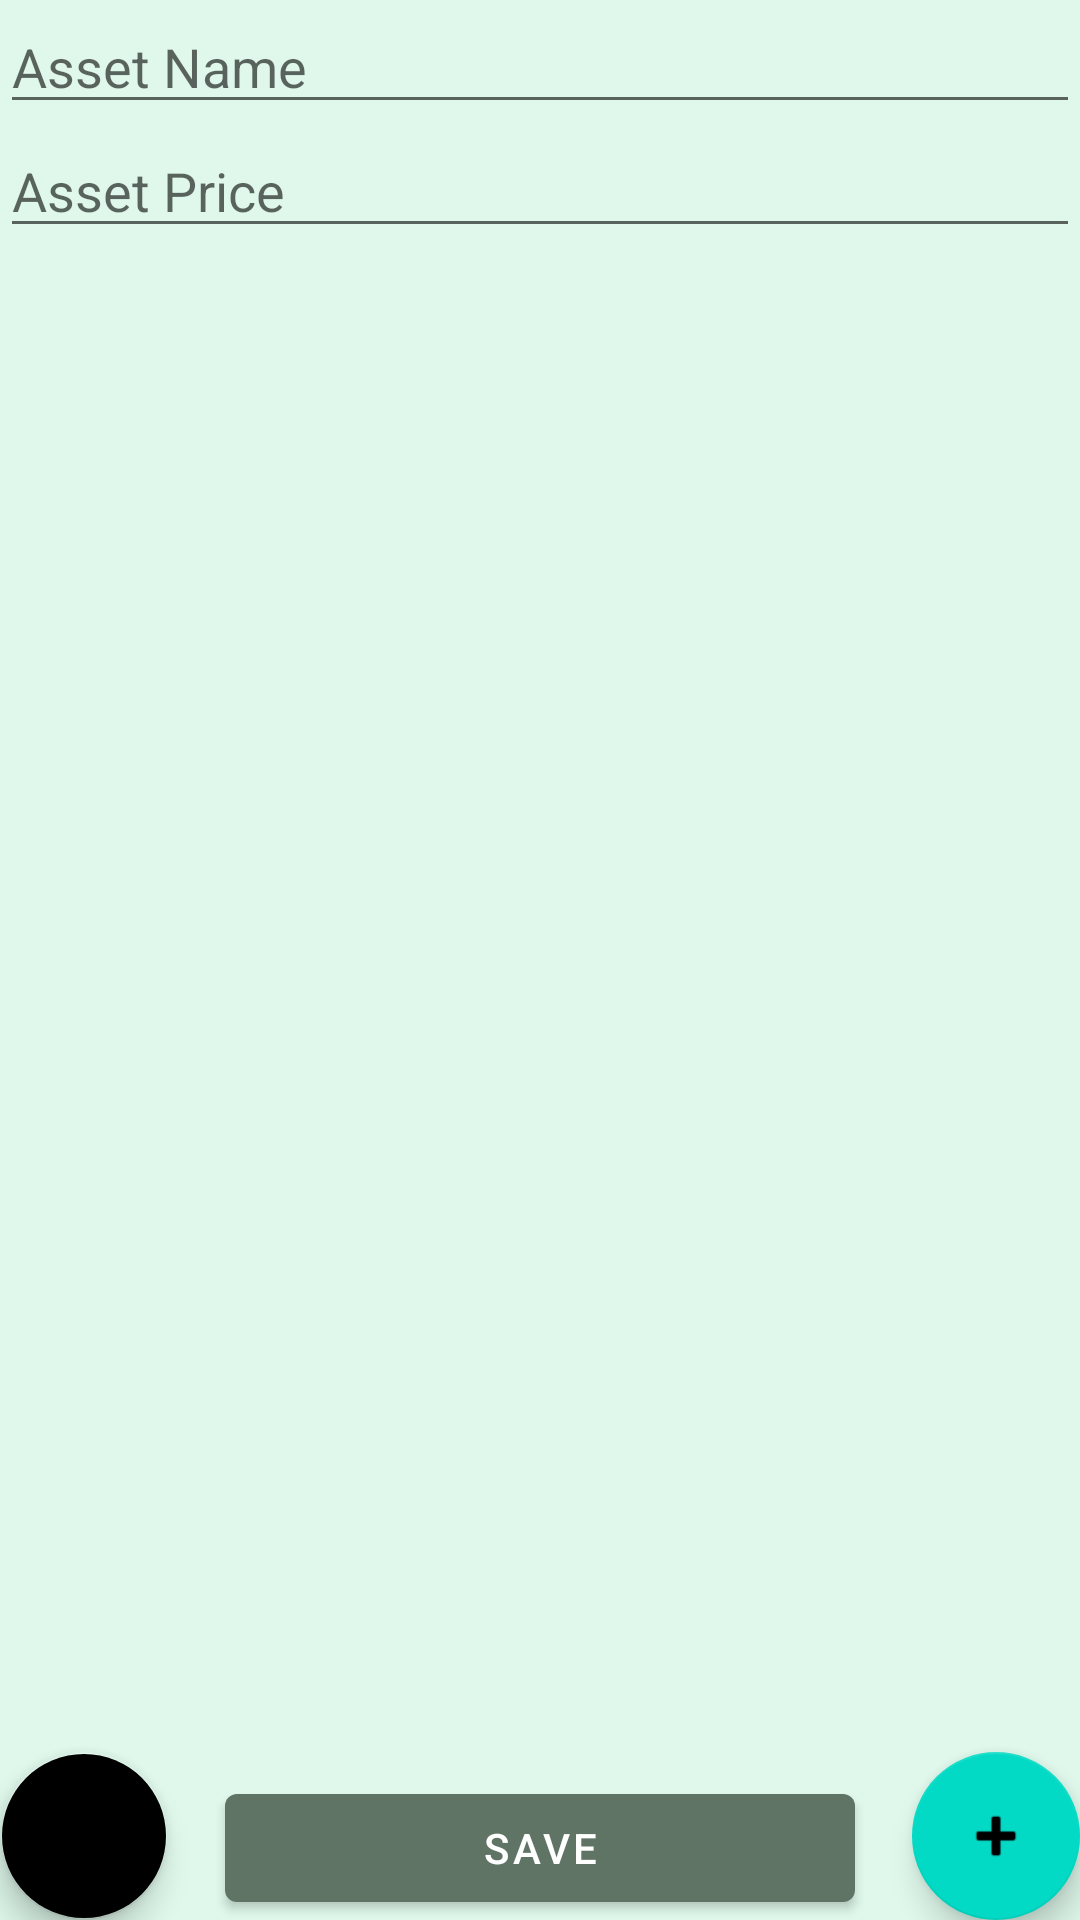

Icons on this 1080*1920 Android screen, each with the point to tap as (x=x, y=y):
add: (x=996, y=1836)
